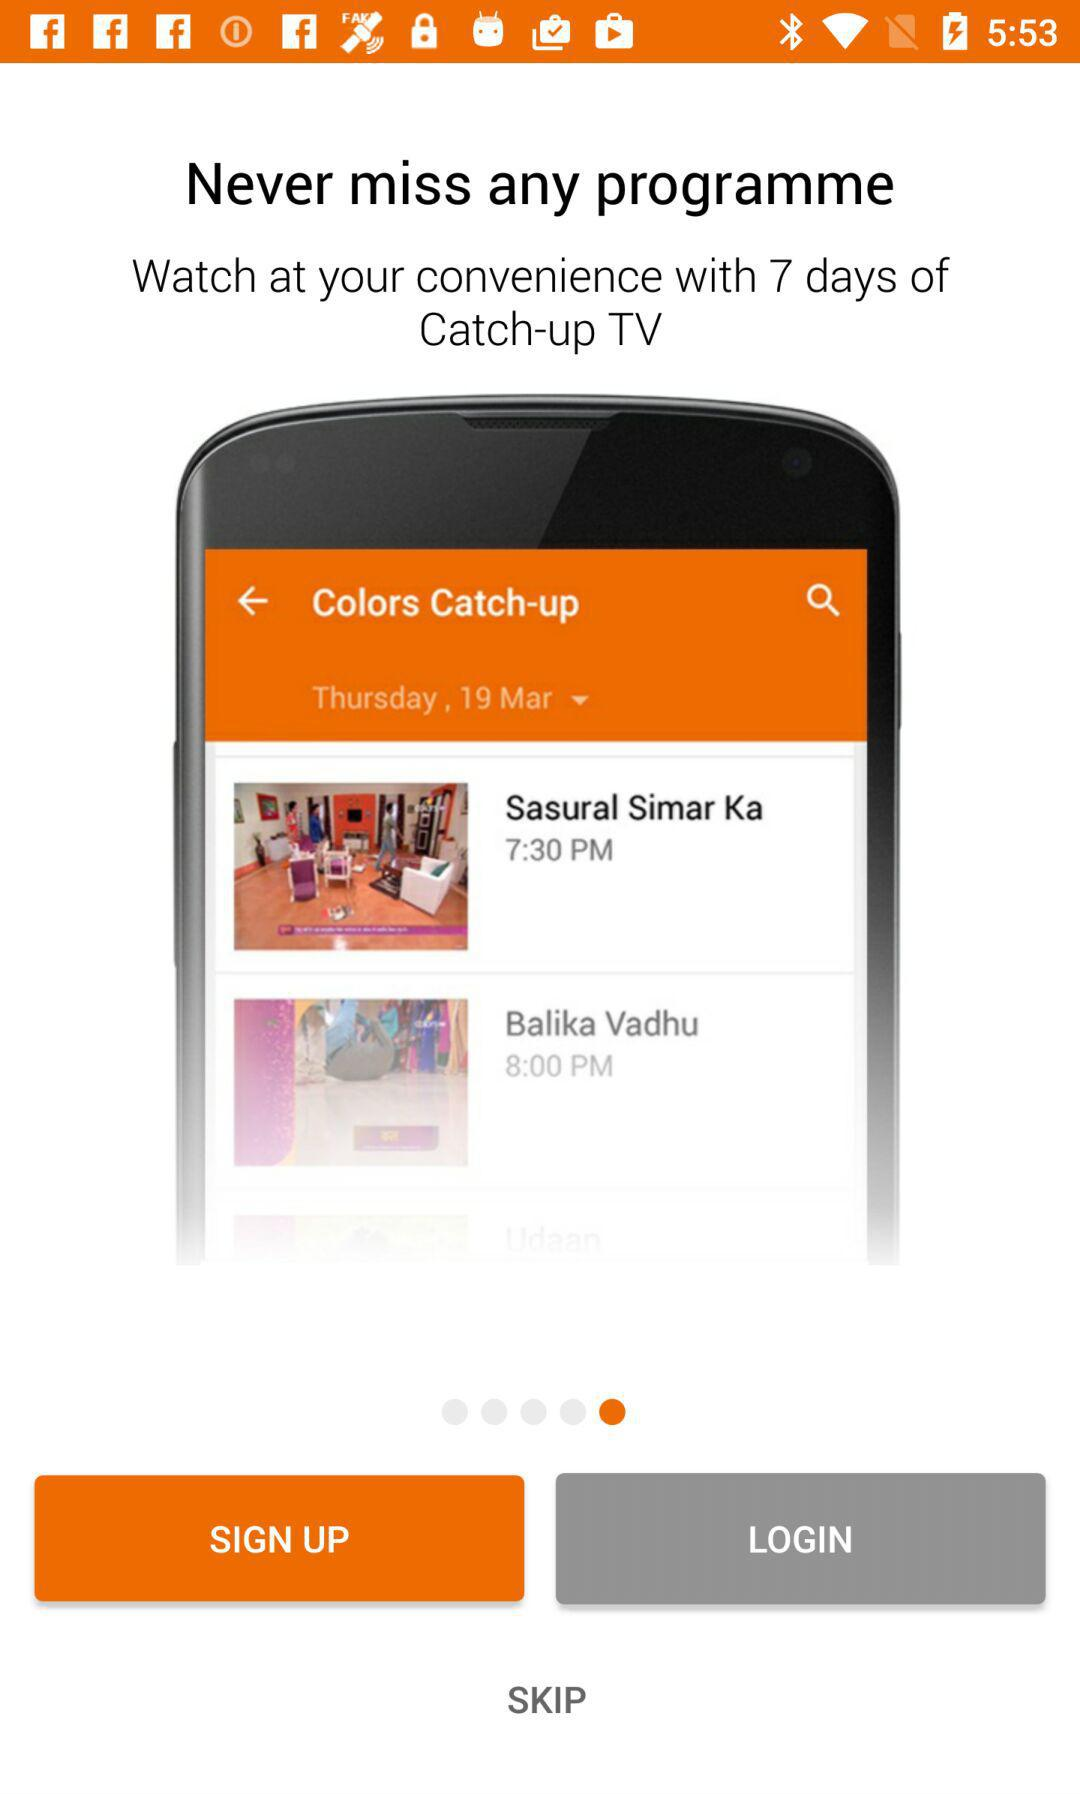Image: (173, 392, 903, 1265)
PageIndicator: (439, 1397, 628, 1428)
Text: (132, 255, 952, 356), (188, 159, 896, 220), (507, 1685, 587, 1715)
TextButton: (555, 1472, 1047, 1606), (35, 1474, 527, 1603)
UpperTaskBar: (1, 1, 1080, 64)
